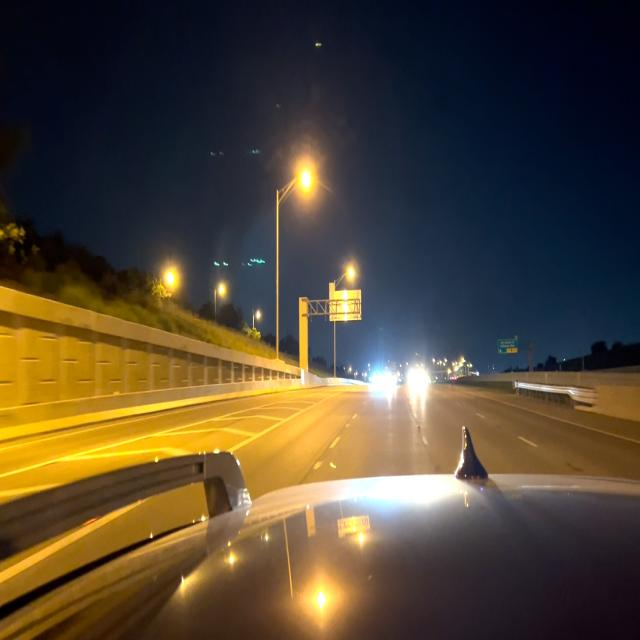back-of-sign: (329, 291, 362, 320)
